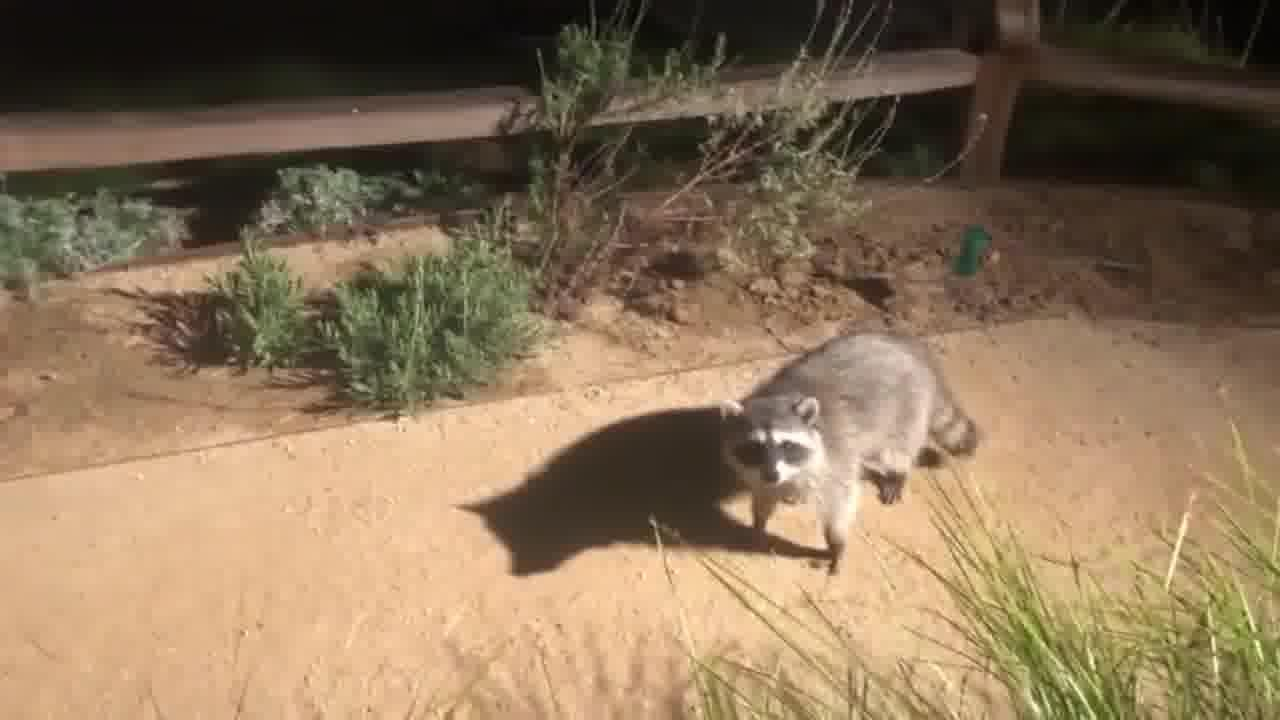raccoon: (714, 319, 986, 574)
